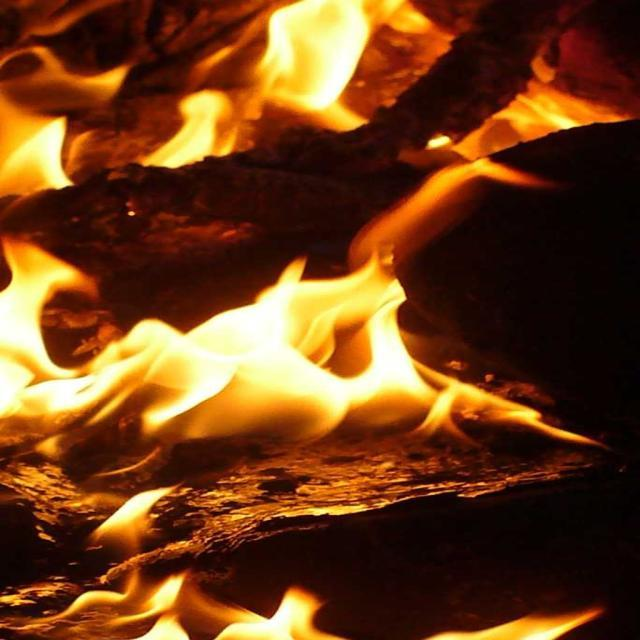Fire: (7, 274, 457, 436), (238, 9, 504, 104)
